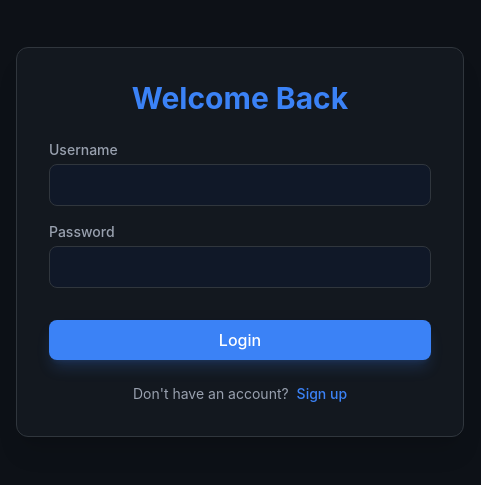
Test case: Login Page — form submission › failed login: displays error message from server
This screenshot has width=481, height=485.
Type "bad" into the field. click: (240, 185)
box: [49,164,431,206]
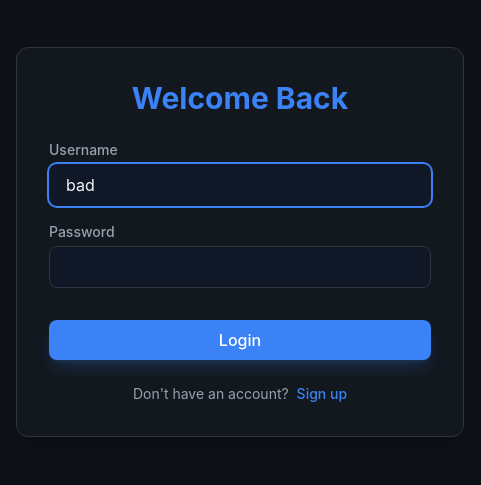
Type "wrong" into the password field. click: (240, 267)
box: [49,246,431,288]
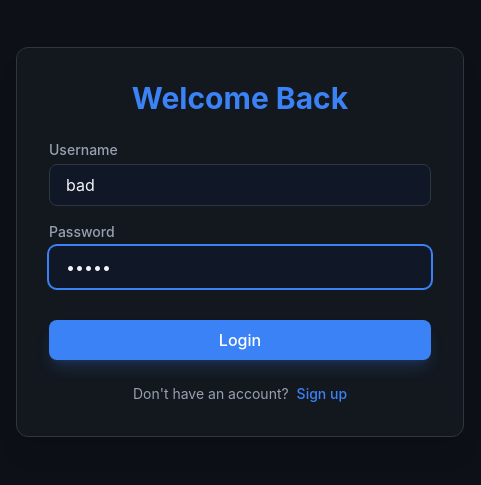
Click the button "Login". click: click(240, 340)
box: [49,320,431,360]
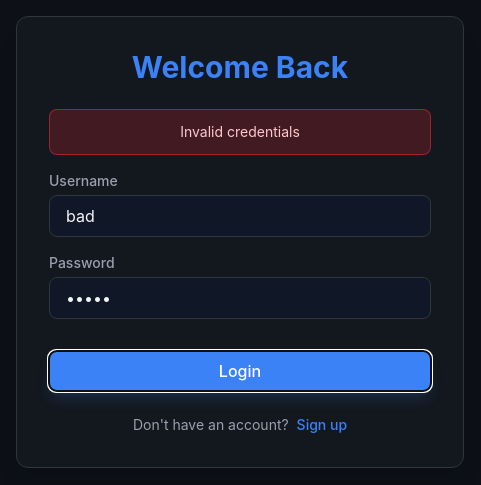
Expected: the text "Invalid credentials" is shown, [49,109,431,155]
